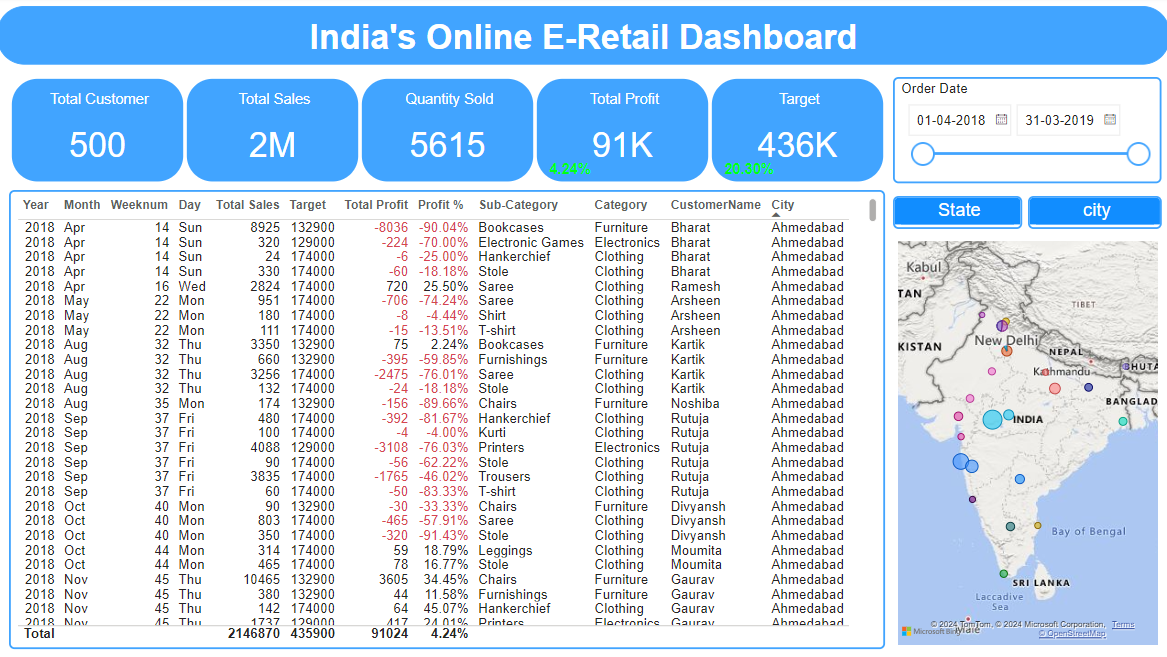

This screenshot's page, from the dashboard's own definition file:
{"tool":"powerbi","page":{"name":"Page 1","canvas":[1280,720],"ordinal":0},"visuals":[{"type":"card","title":"Total Customer","fields":{"Values":["CountNonNull(List of Orders.Order ID)"]},"box":[14.2,87.3,191,115.7],"z":0},{"type":"card","title":"Total Sales","fields":{"Values":["Measures Table.Total Sales"]},"box":[205.1,87.3,191,115.7],"z":1000},{"type":"card","title":"Total Profit","fields":{"Values":["Measures Table.Total Profit"]},"box":[587.1,87.3,191,115.7],"z":2000},{"type":"card","title":"Target","fields":{"Values":["Measures Table.Target"]},"box":[778,87.3,191,115.7],"z":3000},{"type":"card","title":"Quantity Sold","fields":{"Values":["Measures Table.Total Quantity Sold"]},"box":[396.1,87.3,191,115.7],"z":4000},{"type":"textbox","box":[0,9.8,1280,64.4],"z":5000},{"type":"card","fields":{"Values":["Measures Table.Taget %"]},"box":[778,172.4,85.1,33.8],"z":6000},{"type":"card","fields":{"Values":["Measures Table.Profit %"]},"box":[587.1,175.7,76.4,27.3],"z":7000},{"type":"slicer","title":"Day","fields":{"Values":["Calendar Table.Day"]},"box":[1129,299.4,141.9,72.3],"z":8000},{"type":"slicer","title":"Month","fields":{"Values":["Calendar Table.Month"]},"box":[1129,216.8,141.9,72.3],"z":8001},{"type":"slicer","title":"State","fields":{"Values":["List of Orders.State"]},"box":[978.1,216.8,140.6,72.3],"z":8002},{"type":"slicer","title":"city","fields":{"Values":["List of Orders.City"]},"box":[1129,381.9,141.9,72.3],"z":8003},{"type":"slicer","title":"Order Date","fields":{"Values":["Calendar Table.Order Date"]},"box":[978.1,87.7,292.9,116.1],"z":8004},{"type":"slicer","title":"Category","fields":{"Values":["Sales target.Category"]},"box":[978.1,381.9,140.6,72.3],"z":8005},{"type":"slicer","title":"Cust Name","fields":{"Values":["List of Orders.CustomerName"]},"box":[978.1,299.4,140.6,72.3],"z":8006},{"type":"donutChart","fields":{"Y":["Measures Table.Electronics","Measures Table.Furniture","Measures Table.Clothing"]},"box":[977.7,461.6,292.4,251],"z":8007},{"type":"barChart","fields":{"Category":["Order Details.Sub-Category"],"Y":["Measures Table.Total Sales"]},"box":[452.9,217.2,516.1,236.8],"z":8008},{"type":"barChart","fields":{"Category":["List of Orders.CustomerName"],"Y":["Measures Table.Total Sales"]},"box":[14.2,217.2,431,236.8],"z":8009},{"type":"columnChart","fields":{"Category":["Calendar Table.Month"],"Y":["Measures Table.Total Sales"]},"box":[13.1,461.6,650.4,251],"z":8010},{"type":"donutChart","fields":{"Y":["Measures Table.Total Sales"],"Category":["Calendar Table.Year"]},"box":[671.1,460.5,297.9,251],"z":8011}]}

Visuals, with their boxes in screenshot pixels (x1, y1, x2, y2), scaled from the page's 1280x720 canvas onto the 1167x657 screenshot:
"Total Customer" card: {"x1": 13, "y1": 80, "x2": 187, "y2": 185}
"Total Sales" card: {"x1": 187, "y1": 80, "x2": 361, "y2": 185}
"Total Profit" card: {"x1": 535, "y1": 80, "x2": 709, "y2": 185}
"Target" card: {"x1": 709, "y1": 80, "x2": 883, "y2": 185}
"Quantity Sold" card: {"x1": 361, "y1": 80, "x2": 535, "y2": 185}
textbox: {"x1": 0, "y1": 9, "x2": 1166, "y2": 68}
card - Measures Table.Taget %: {"x1": 709, "y1": 157, "x2": 787, "y2": 188}
card - Measures Table.Profit %: {"x1": 535, "y1": 160, "x2": 605, "y2": 185}
"Day" slicer: {"x1": 1029, "y1": 273, "x2": 1159, "y2": 339}
"Month" slicer: {"x1": 1029, "y1": 198, "x2": 1159, "y2": 264}
"State" slicer: {"x1": 892, "y1": 198, "x2": 1020, "y2": 264}
"city" slicer: {"x1": 1029, "y1": 348, "x2": 1159, "y2": 414}
"Order Date" slicer: {"x1": 892, "y1": 80, "x2": 1159, "y2": 186}
"Category" slicer: {"x1": 892, "y1": 348, "x2": 1020, "y2": 414}
"Cust Name" slicer: {"x1": 892, "y1": 273, "x2": 1020, "y2": 339}
donutChart - Measures Table.Electronics x Measures Table.Furniture: {"x1": 891, "y1": 421, "x2": 1158, "y2": 650}
barChart - Order Details.Sub-Category x Measures Table.Total Sales: {"x1": 413, "y1": 198, "x2": 883, "y2": 414}
barChart - List of Orders.CustomerName x Measures Table.Total Sales: {"x1": 13, "y1": 198, "x2": 406, "y2": 414}
columnChart - Calendar Table.Month x Measures Table.Total Sales: {"x1": 12, "y1": 421, "x2": 605, "y2": 650}
donutChart - Measures Table.Total Sales x Calendar Table.Year: {"x1": 612, "y1": 420, "x2": 883, "y2": 649}
